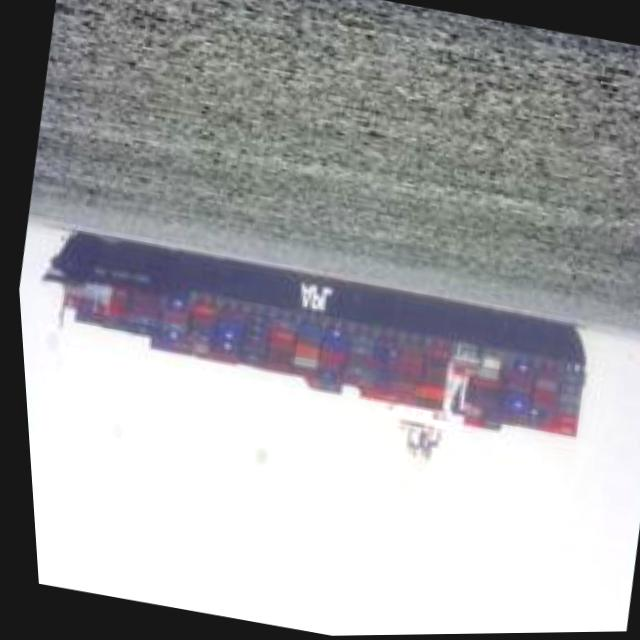ship2: (37, 230, 582, 489)
